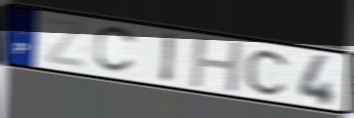4: (297, 51, 337, 109)
C: (243, 47, 293, 98), (92, 26, 140, 76)
H: (188, 36, 246, 94)
I: (159, 30, 179, 86)
Z: (43, 15, 89, 71)
